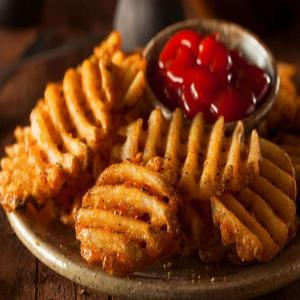fries: (8, 47, 289, 281)
